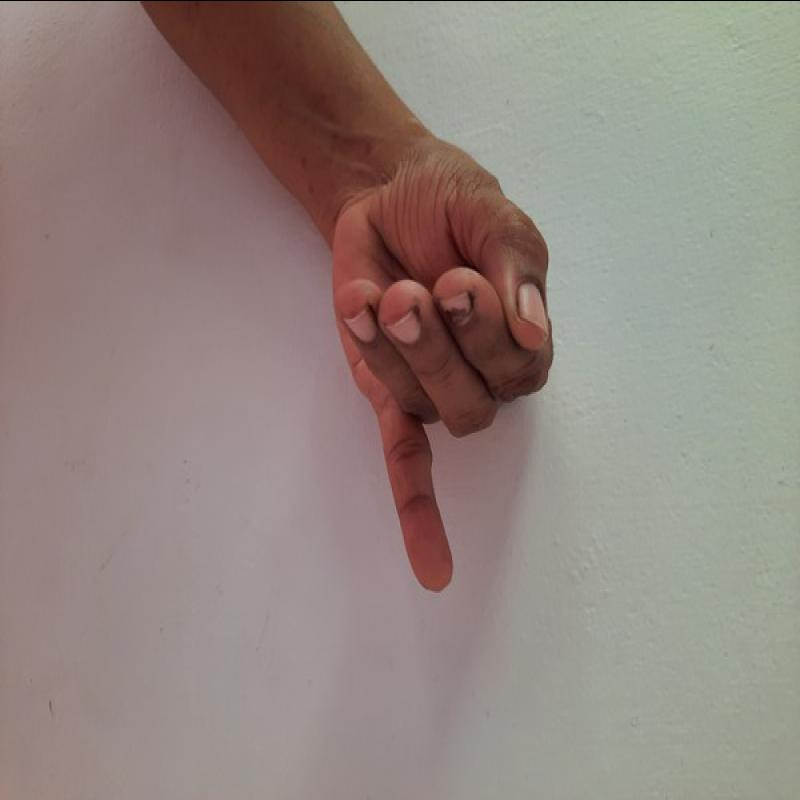Kartharee Mukham: (303, 129, 567, 605)
